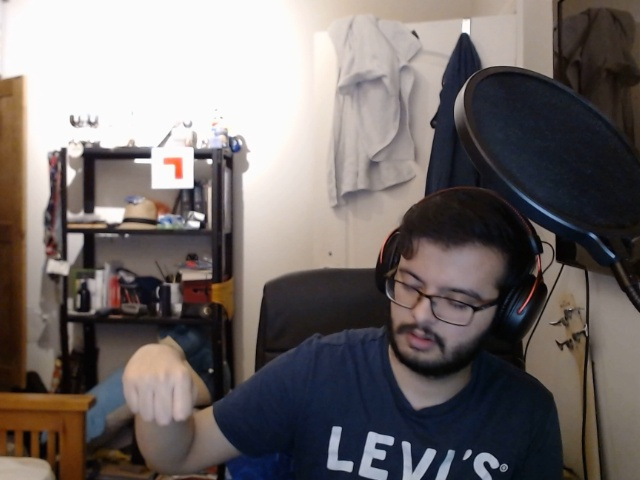Yes: (115, 335, 198, 434)
